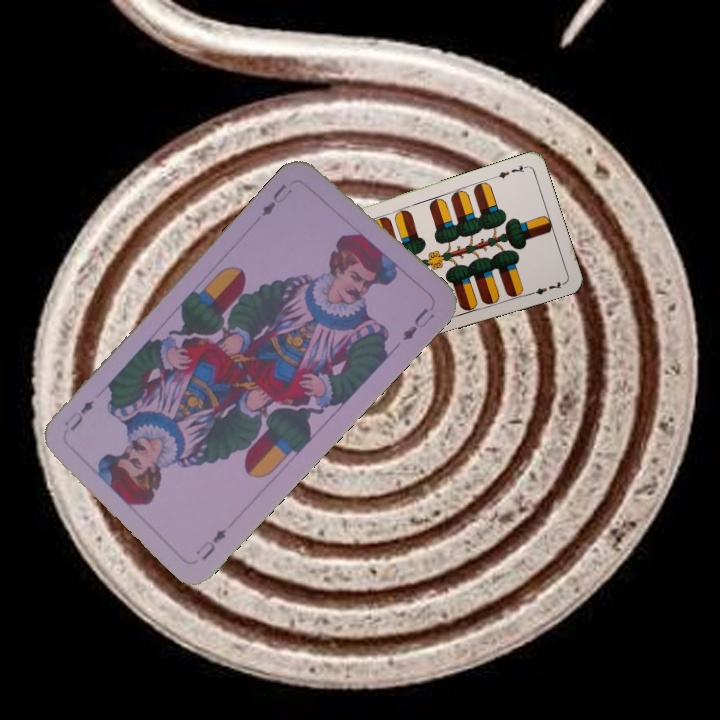E7: (490, 161, 530, 181)
EU: (257, 180, 295, 219), (192, 524, 229, 563)
